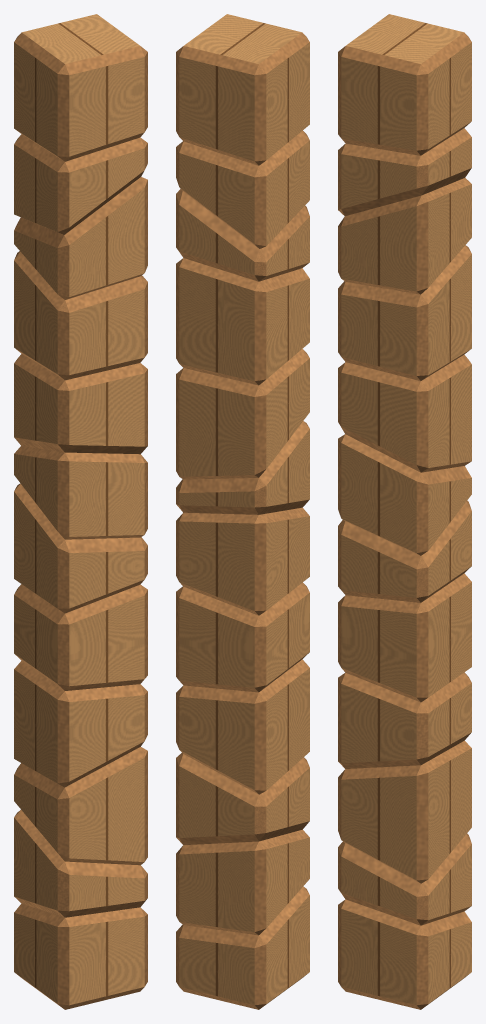
Rendered from Kit_Wood_Joint_Fractured.fbx.
3 renders of one model, left to right at view 1: azimuth 30°, elevation 25°; view 2: azimuth 150°, elevation 25°; view 3: azimuth 330°, elevation 25°, orthographic.
Visible parts, largest first — view 1: Kit_Wood_Joint_frag_12, Kit_Wood_Joint_frag_09, Kit_Wood_Joint_frag_04, Kit_Wood_Joint_frag_01, Kit_Wood_Joint_frag_05, Kit_Wood_Joint_frag_03, Kit_Wood_Joint_frag_08, Kit_Wood_Joint_frag_07, Kit_Wood_Joint_frag_10, Kit_Wood_Joint_frag_06, Kit_Wood_Joint_frag_11, Kit_Wood_Joint_frag_02; view 2: Kit_Wood_Joint_frag_12, Kit_Wood_Joint_frag_09, Kit_Wood_Joint_frag_08, Kit_Wood_Joint_frag_04, Kit_Wood_Joint_frag_06, Kit_Wood_Joint_frag_05, Kit_Wood_Joint_frag_02, Kit_Wood_Joint_frag_01, Kit_Wood_Joint_frag_11, Kit_Wood_Joint_frag_03, Kit_Wood_Joint_frag_10, Kit_Wood_Joint_frag_07; view 3: Kit_Wood_Joint_frag_12, Kit_Wood_Joint_frag_03, Kit_Wood_Joint_frag_05, Kit_Wood_Joint_frag_08, Kit_Wood_Joint_frag_09, Kit_Wood_Joint_frag_01, Kit_Wood_Joint_frag_10, Kit_Wood_Joint_frag_04, Kit_Wood_Joint_frag_07, Kit_Wood_Joint_frag_06, Kit_Wood_Joint_frag_02, Kit_Wood_Joint_frag_11.
Part boxes in pixels (box(x1,y1,x2,y2)): Kit_Wood_Joint_frag_12: box(14, 14, 147, 161); Kit_Wood_Joint_frag_09: box(14, 251, 147, 380); Kit_Wood_Joint_frag_04: box(14, 661, 147, 787); Kit_Wood_Joint_frag_01: box(14, 903, 147, 1009); Kit_Wood_Joint_frag_05: box(14, 584, 147, 690); Kit_Wood_Joint_frag_03: box(14, 747, 147, 865); Kit_Wood_Joint_frag_08: box(14, 354, 147, 454); Kit_Wood_Joint_frag_07: box(14, 445, 147, 539); Kit_Wood_Joint_frag_10: box(14, 177, 147, 299); Kit_Wood_Joint_frag_06: box(14, 483, 147, 613); Kit_Wood_Joint_frag_11: box(14, 134, 147, 234); Kit_Wood_Joint_frag_02: box(14, 810, 147, 917); Kit_Wood_Joint_frag_12: box(176, 14, 309, 165); Kit_Wood_Joint_frag_09: box(176, 258, 309, 385); Kit_Wood_Joint_frag_08: box(176, 349, 309, 479); Kit_Wood_Joint_frag_04: box(176, 659, 309, 794); Kit_Wood_Joint_frag_06: box(176, 507, 309, 615); Kit_Wood_Joint_frag_05: box(176, 582, 309, 692); Kit_Wood_Joint_frag_02: box(176, 829, 309, 935); Kit_Wood_Joint_frag_01: box(176, 886, 309, 1009); Kit_Wood_Joint_frag_11: box(176, 130, 309, 248); Kit_Wood_Joint_frag_03: box(176, 753, 309, 844); Kit_Wood_Joint_frag_10: box(176, 189, 309, 281); Kit_Wood_Joint_frag_07: box(176, 421, 309, 514); Kit_Wood_Joint_frag_12: box(338, 14, 471, 155); Kit_Wood_Joint_frag_03: box(338, 740, 471, 883); Kit_Wood_Joint_frag_05: box(338, 573, 471, 702); Kit_Wood_Joint_frag_08: box(338, 354, 471, 472); Kit_Wood_Joint_frag_09: box(338, 245, 471, 380); Kit_Wood_Joint_frag_01: box(338, 899, 471, 1009); Kit_Wood_Joint_frag_10: box(338, 178, 471, 294); Kit_Wood_Joint_frag_04: box(338, 672, 471, 768); Kit_Wood_Joint_frag_07: box(338, 434, 471, 555); Kit_Wood_Joint_frag_06: box(338, 500, 471, 602); Kit_Wood_Joint_frag_02: box(338, 833, 471, 925); Kit_Wood_Joint_frag_11: box(338, 128, 471, 215).
Size of what is drawn, in the model's own units: 0.3 by 3 by 0.3.
2 materials, 2 textured.
